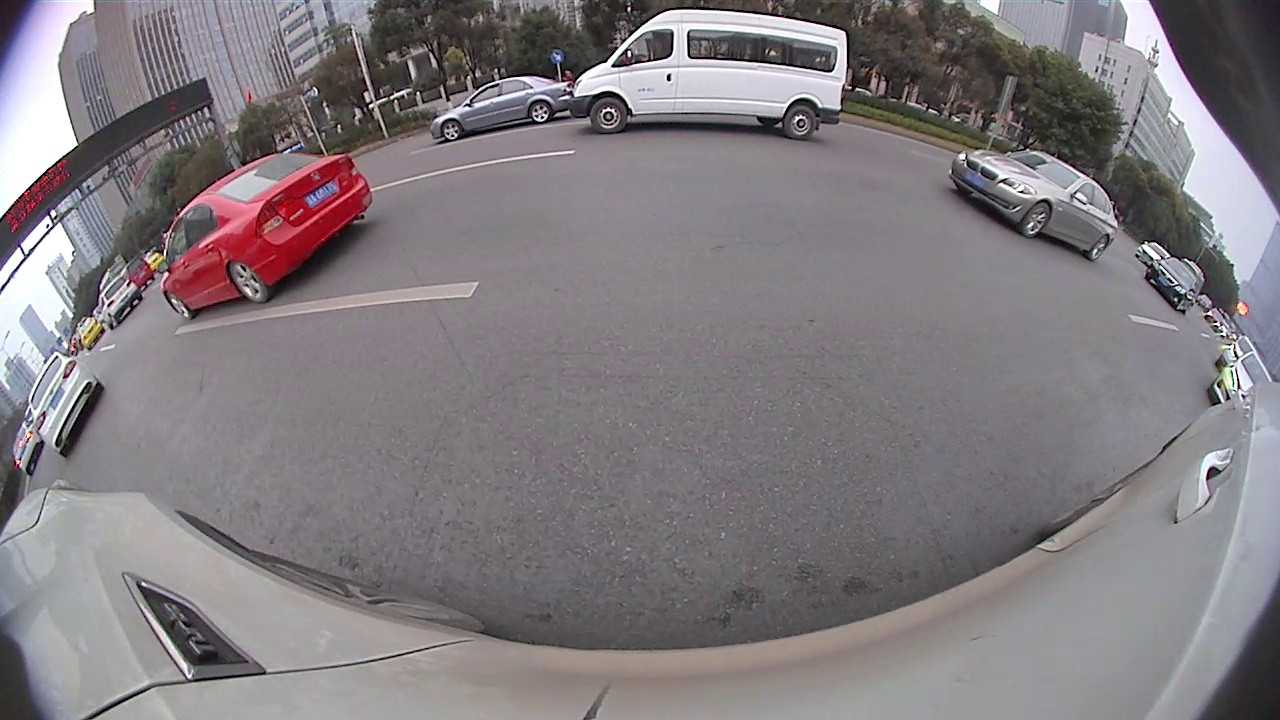car: (573, 10, 846, 140), (158, 152, 367, 320), (947, 149, 1118, 261), (428, 76, 575, 144), (26, 352, 102, 458), (1211, 352, 1273, 406), (1146, 257, 1202, 313), (97, 277, 145, 328)
front: (588, 95, 627, 137), (1020, 202, 1055, 236), (162, 288, 190, 321), (439, 120, 462, 141)
rear: (228, 260, 269, 305), (783, 102, 817, 139), (1086, 233, 1111, 262), (529, 101, 553, 123)
